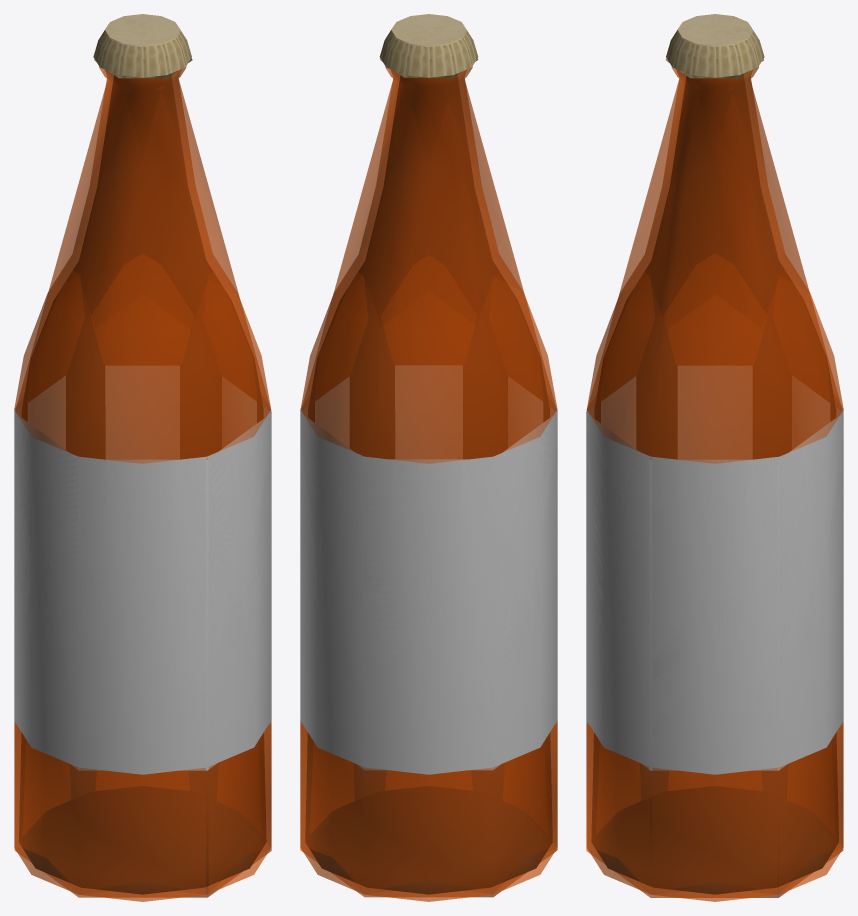
The model's file is BeerBottle 2.fbx.
3 views of the same model, side by side, from view 1: azimuth 30°, elevation 25°; view 2: azimuth 150°, elevation 25°; view 3: azimuth 270°, elevation 25° (orthographic).
Visible parts, largest first — view 1: Circle.021, Circle.026, Circle.022; view 2: Circle.021, Circle.026, Circle.022; view 3: Circle.021, Circle.026, Circle.022.
Boxes of the visible parts, box(x1,y1,x2,y2) form: Circle.021: box(14, 14, 271, 901); Circle.026: box(14, 58, 271, 897); Circle.022: box(19, 75, 266, 894); Circle.021: box(300, 14, 557, 901); Circle.026: box(300, 58, 557, 897); Circle.022: box(305, 75, 552, 894); Circle.021: box(586, 14, 843, 901); Circle.026: box(586, 58, 843, 897); Circle.022: box(591, 75, 838, 894).
Bounding box in the file's own units: 7.85 × 27.64 × 7.86.
